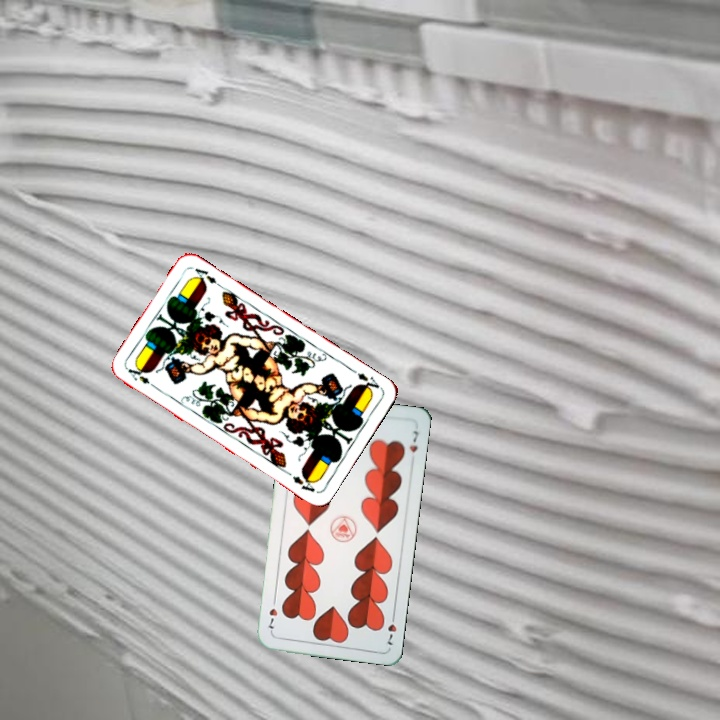EA: (347, 365, 382, 396), (124, 364, 159, 392)
H7: (383, 609, 399, 648)
